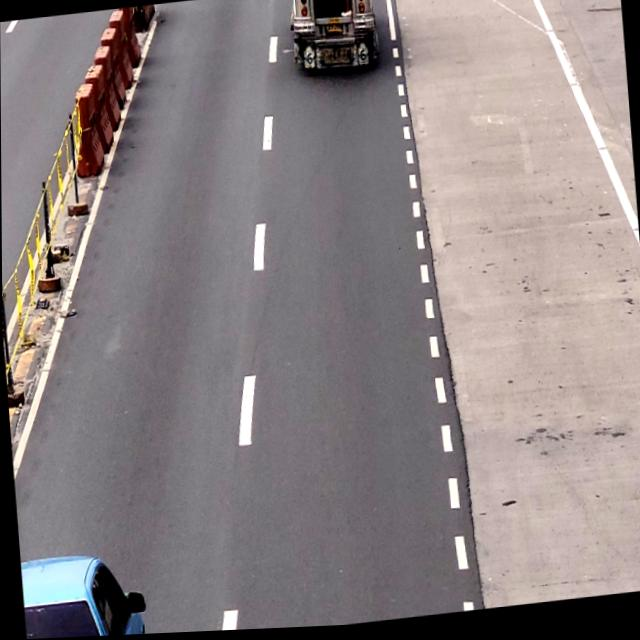Car: (19, 544, 146, 639)
Jeep: (290, 0, 377, 75)
